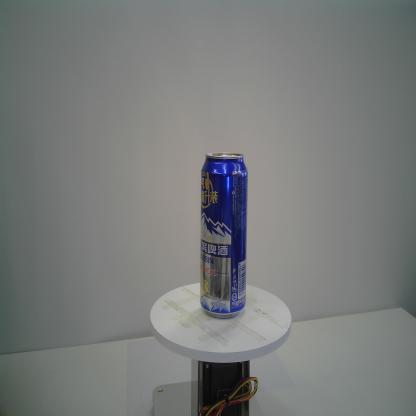Alcohol: (198, 149, 250, 323)
